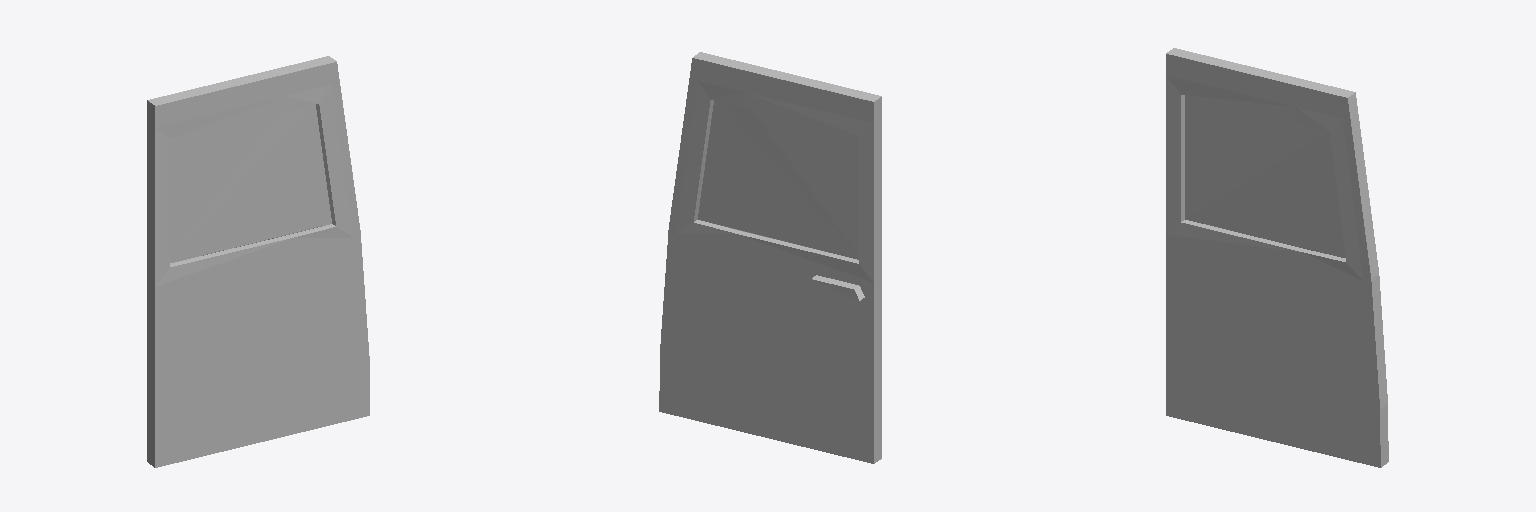
The model's file is Van_Door_B_L.obj.
The picture shows the model from 3 angles: view 1: azimuth 30°, elevation 25°; view 2: azimuth 150°, elevation 25°; view 3: azimuth 330°, elevation 25°; orthographic projection.
Parts seen in each view (by area): view 1: Van_Door_B_L; view 2: Van_Door_B_L; view 3: Van_Door_B_L.
Boxes of the visible parts, <box> form: Van_Door_B_L: <box>147,56,369,467</box>; Van_Door_B_L: <box>659,52,881,463</box>; Van_Door_B_L: <box>1166,48,1388,467</box>.
Size of the model in its own units: 2.12 by 3.42 by 0.2364.